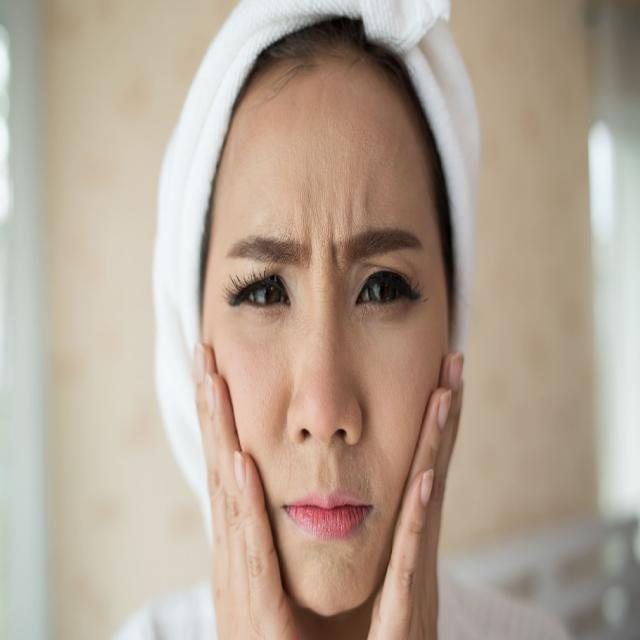dry: (254, 136, 378, 198), (371, 350, 417, 457), (232, 350, 281, 433), (307, 548, 365, 596)
